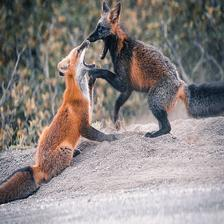fox: (0, 34, 131, 220), (80, 0, 224, 145)
